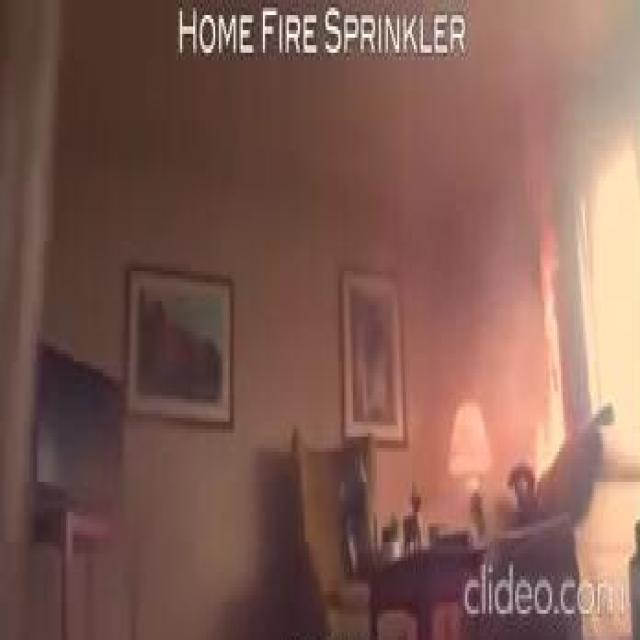smoke: (518, 211, 568, 482)
